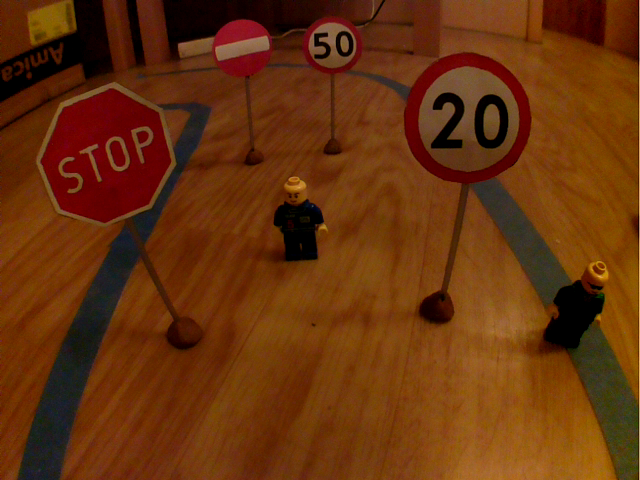Ograniczenie 20: (399, 45, 534, 188)
Ograniczenie 50: (302, 13, 366, 77)
Postac LEGO: (537, 255, 613, 356), (268, 173, 335, 271)
Stop: (30, 76, 181, 230)
Zakaz: (210, 17, 275, 82)
